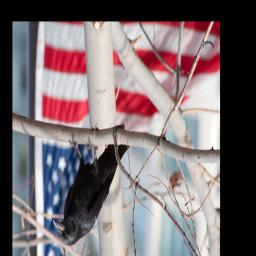Crow: (52, 129, 132, 248)
